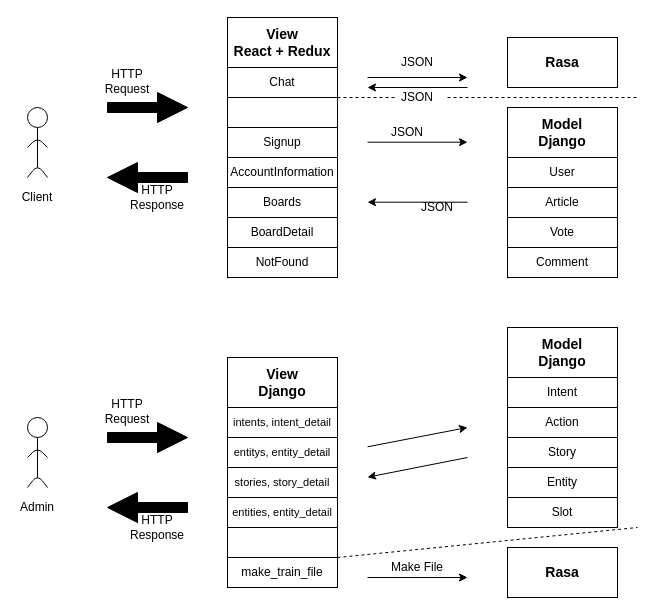
Image size: 656x615. Some labels were removed from this diagram. The centre of each missing label's shape, as x and y in pixels:
Signin: [282,112]
slots, slot_detial: [282,542]
